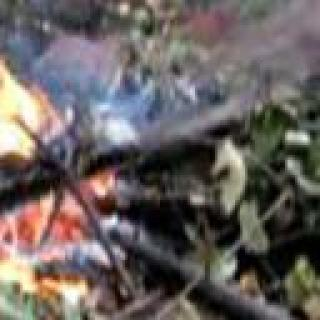fire: (0, 50, 109, 308)
